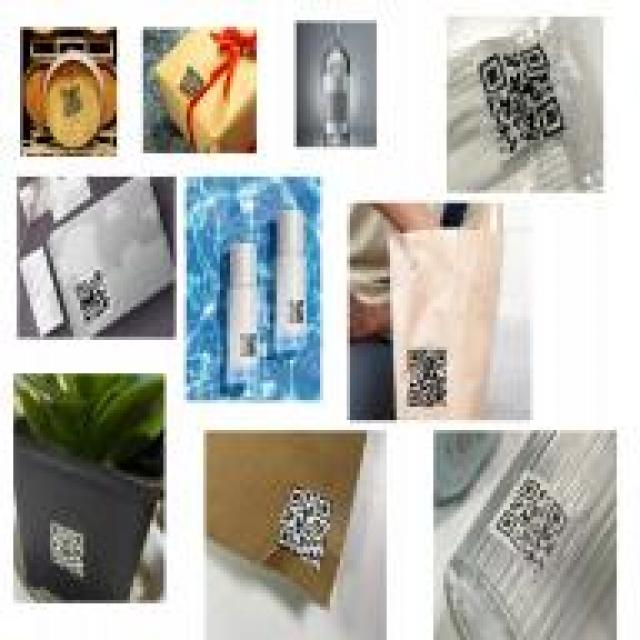QR_CODE: (477, 40, 568, 167), (490, 470, 573, 583), (274, 480, 338, 577), (404, 343, 454, 415), (74, 266, 118, 332), (47, 517, 88, 583), (176, 63, 206, 105), (57, 80, 85, 125), (323, 86, 350, 126), (236, 327, 262, 365), (284, 290, 308, 328)
